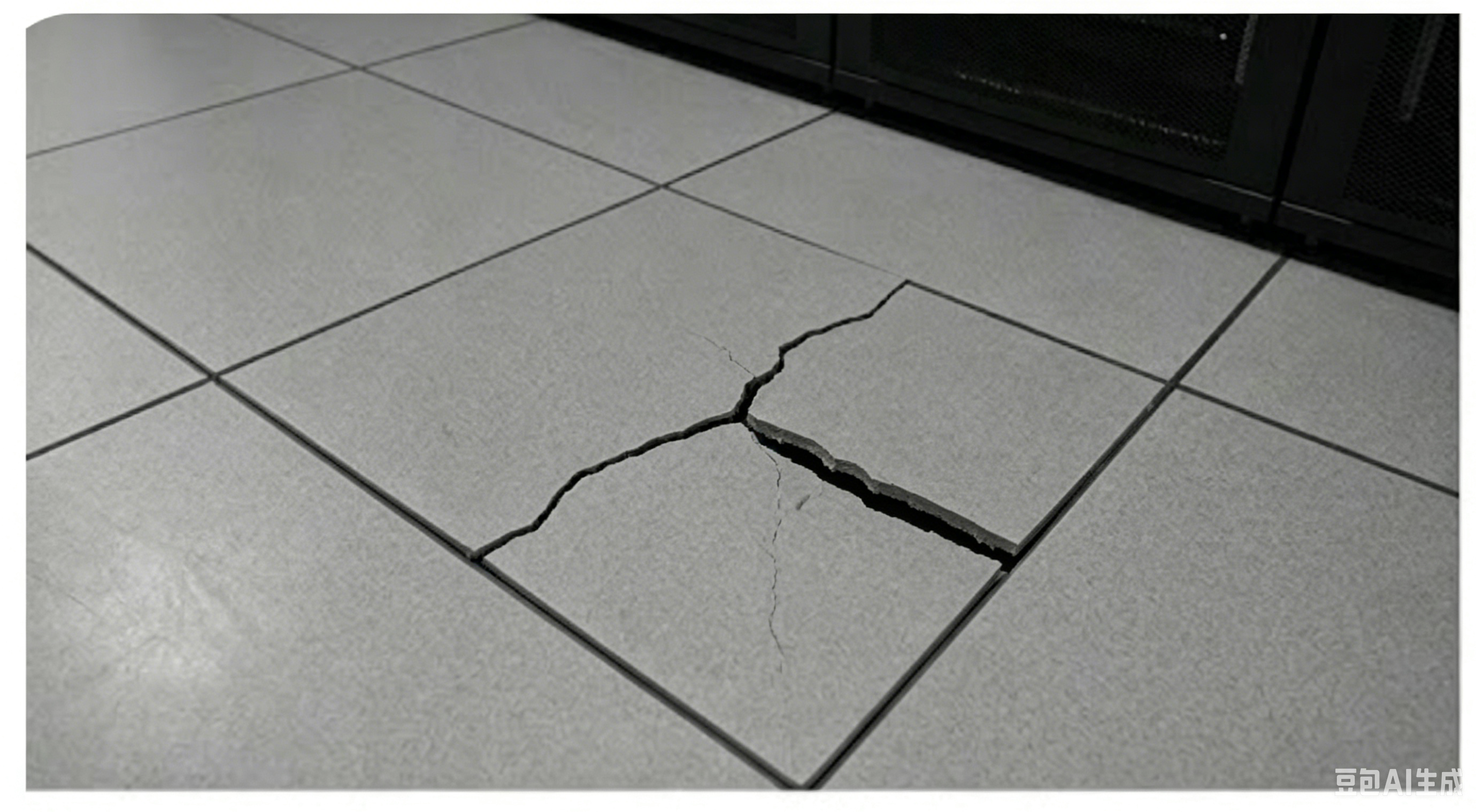floor_defect: (743, 394, 1008, 585), (478, 412, 727, 550), (721, 325, 851, 416), (815, 281, 930, 346)
